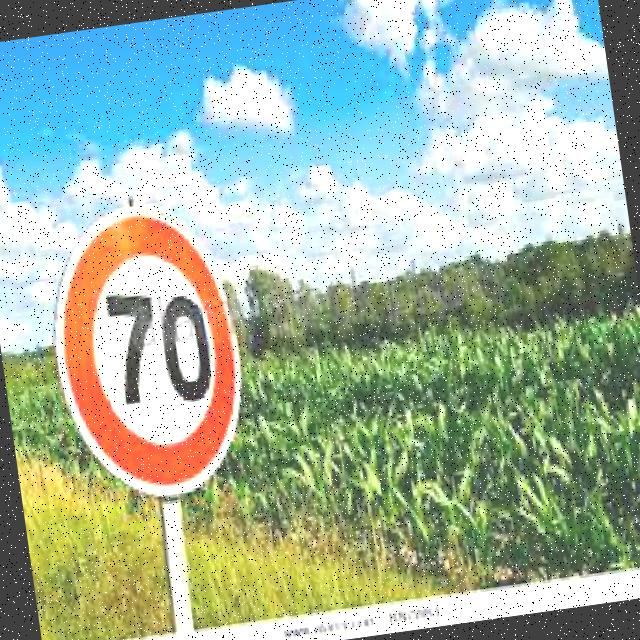Ograniczenie predkosci do 70: (38, 198, 264, 536)
